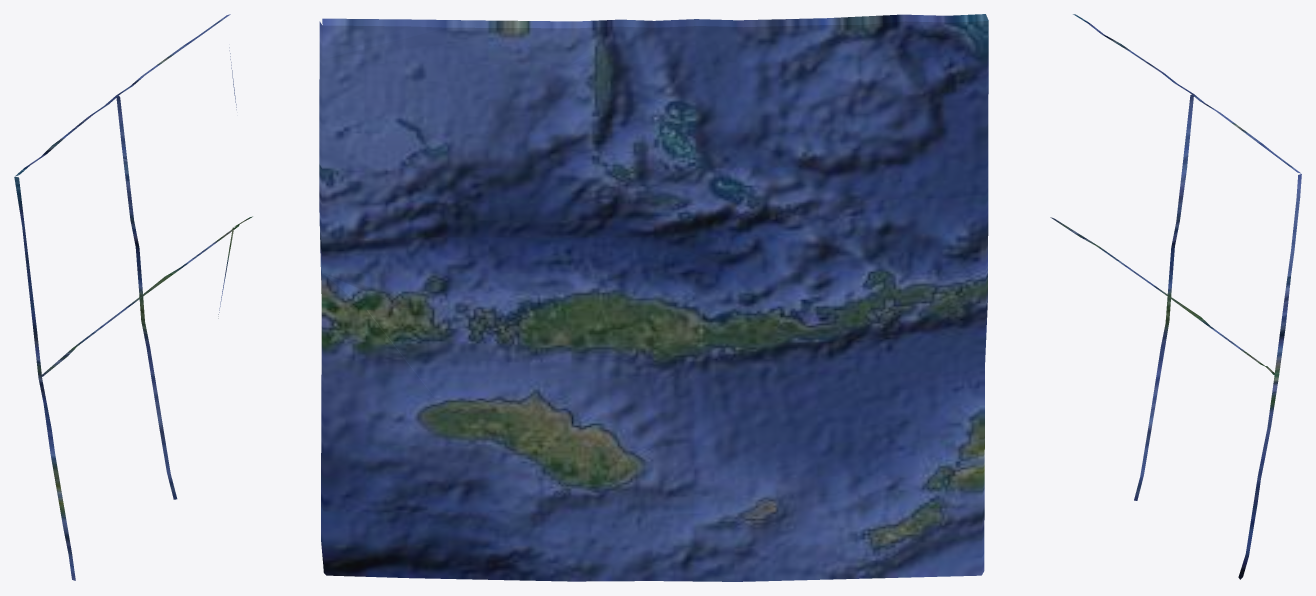
The picture shows the model from 3 angles, left to right: view 1: azimuth 30°, elevation 25°; view 2: azimuth 150°, elevation 25°; view 3: azimuth 270°, elevation 25°; orthographic projection. The views are drawn at different scales.
Size of the model in its own units: 587820 by 623752 by 405571.
Materials: 1 (1 with a texture image).
